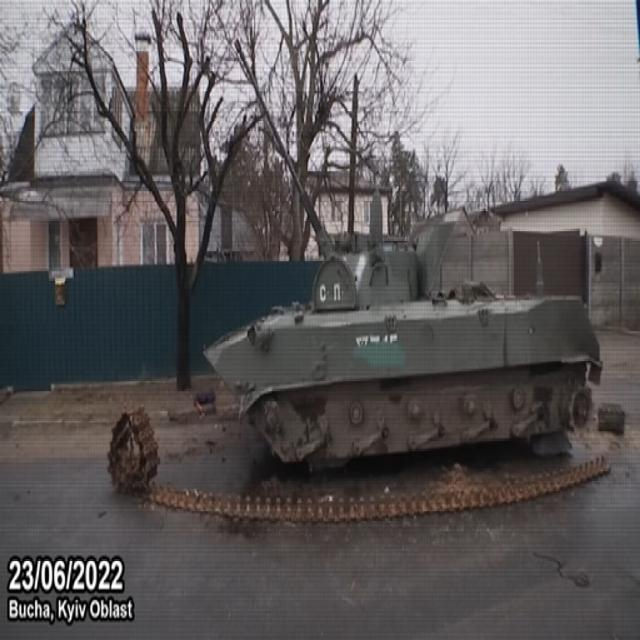APC-IFV: (195, 38, 604, 473)
